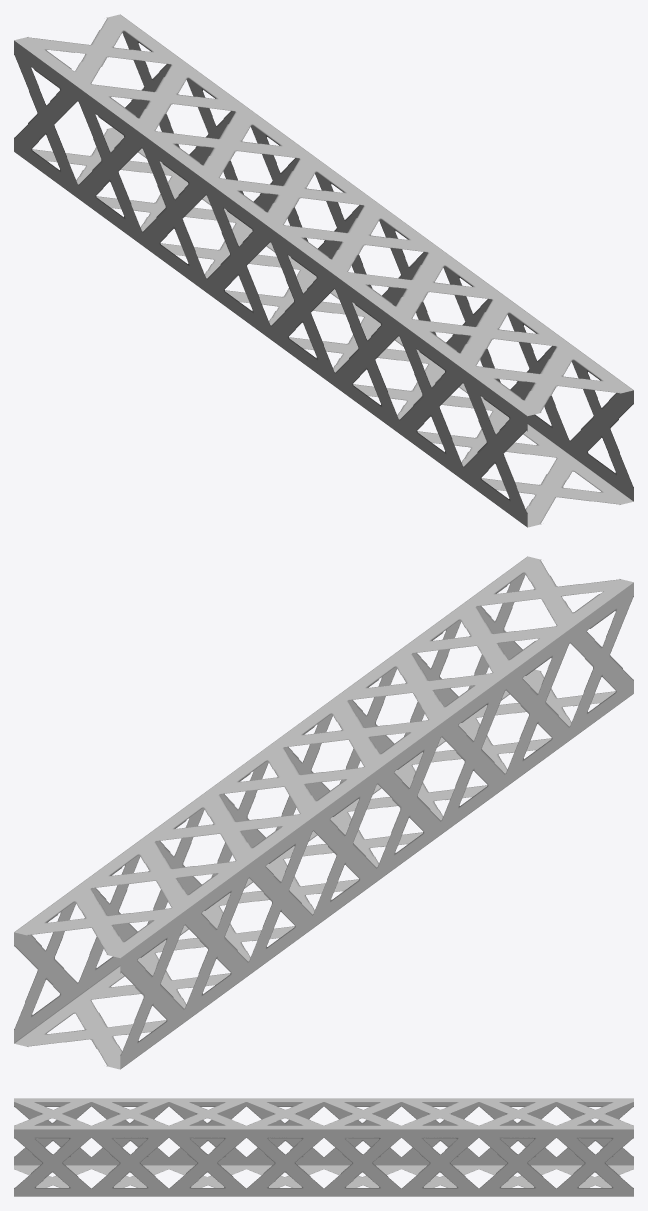
The model's file is Lattice.fbx.
3 renders of one model, top to bottom at view 1: azimuth 30°, elevation 25°; view 2: azimuth 150°, elevation 25°; view 3: azimuth 270°, elevation 25°, orthographic. The views are drawn at different scales.
Parts seen in each view (by area): view 1: Lattice; view 2: Lattice; view 3: Lattice.
Boxes of the visible parts, box(x1,y1,x2,y2) form: Lattice: box(14, 14, 633, 527); Lattice: box(14, 556, 633, 1069); Lattice: box(14, 1098, 633, 1196).
Size of the model in its own units: 11.96 by 11.96 by 100.
Materials: 1 (1 with a texture image).
